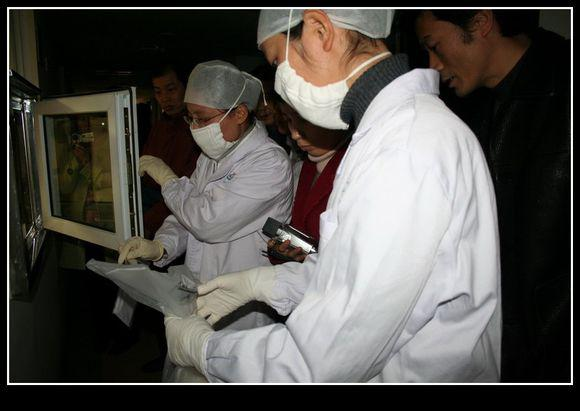NONE: (413, 23, 485, 87), (285, 111, 331, 157), (154, 83, 183, 117)
OK: (266, 32, 362, 130), (188, 105, 235, 159)
